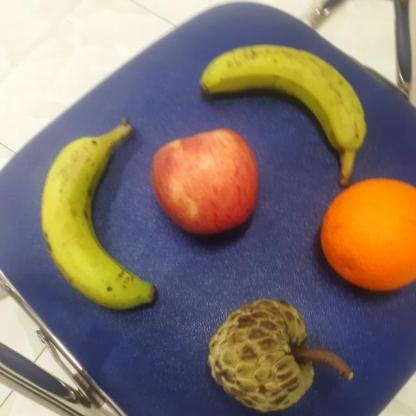annona: (205, 299, 314, 416)
apple: (148, 126, 261, 238)
banana: (37, 116, 159, 311), (196, 41, 366, 158)
orange: (318, 176, 416, 294)
